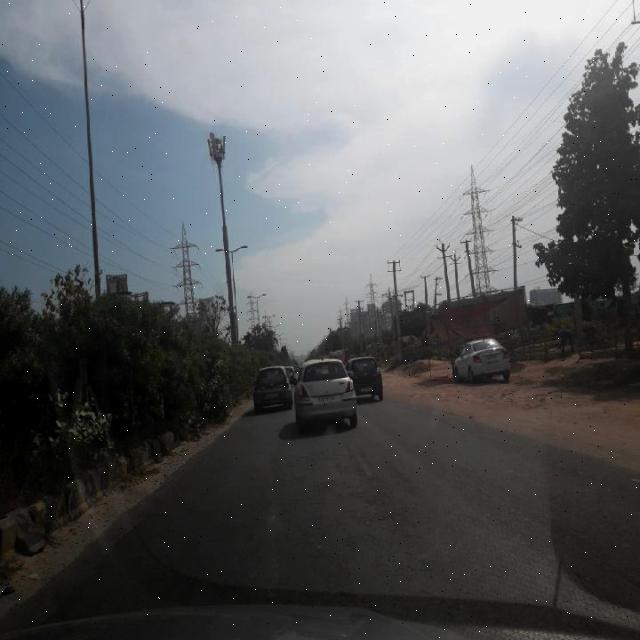D20: (80, 436, 635, 622)
D44: (348, 430, 378, 484)
